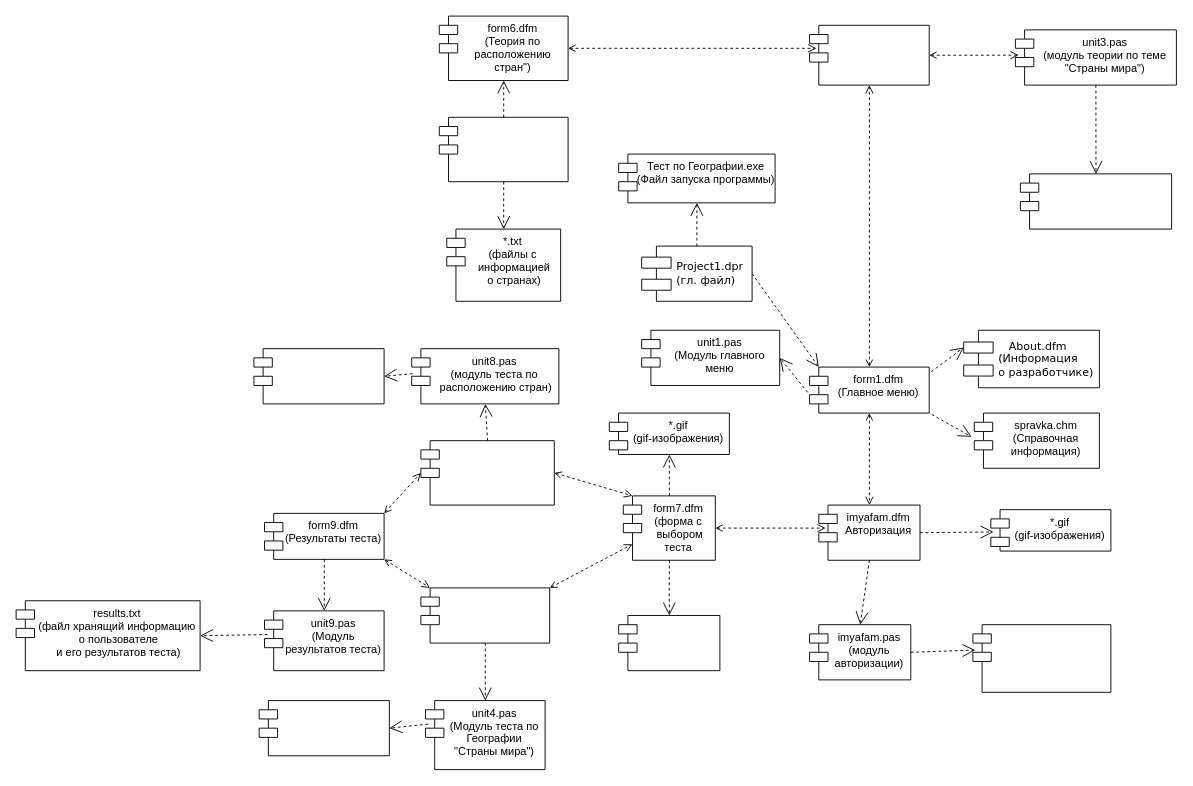
This 1193x786 diagram has some shape labels left out. Here are the shapes that lost their labels. From the top down, the box of each, then its label:
(809, 24, 929, 85): form3.dfm (Теория по теме "Страны мира")
(438, 116, 568, 182): unit6.pas (Модуль теории по расположению стран")
(1019, 173, 1172, 229): teoria.txt (файлы с теорией по теме "Страны мира")
(253, 348, 384, 404): Karta.txt (файл с хранящий вопросы и ответы)
(420, 440, 554, 505): form8.dfm (тест по расположению стран)
(420, 587, 550, 643): form4.dfm (Тест по Географии "Страны мира")
(618, 615, 720, 671): unit7.pas (модуль с выбором теста
(972, 624, 1111, 692): results.txt (файл хранящий информацию о пользователе)
(258, 700, 389, 756): Test.txt (файл с хранящий вопросы и ответы)
